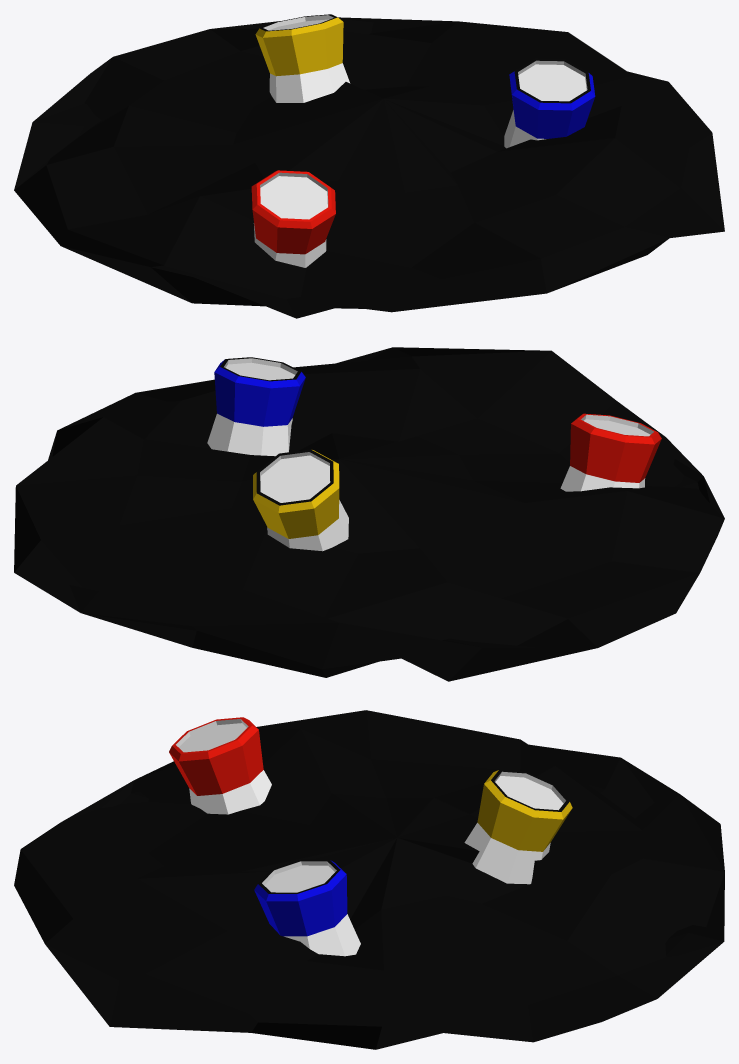
The model's file is Dirt.fbx.
The picture shows the model from 3 angles, top to bottom: view 1: azimuth 30°, elevation 25°; view 2: azimuth 150°, elevation 25°; view 3: azimuth 270°, elevation 25°; orthographic projection. The views are drawn at different scales.
Parts seen in each view (by area): view 1: Sphere; view 2: Sphere; view 3: Sphere.
Part boxes in pixels (x1,y1,x2,y2): Sphere: (14,14,724,318); Sphere: (14,347,724,681); Sphere: (14,710,724,1049).
Bounding box in the file's own units: 201 × 47.15 × 195.
